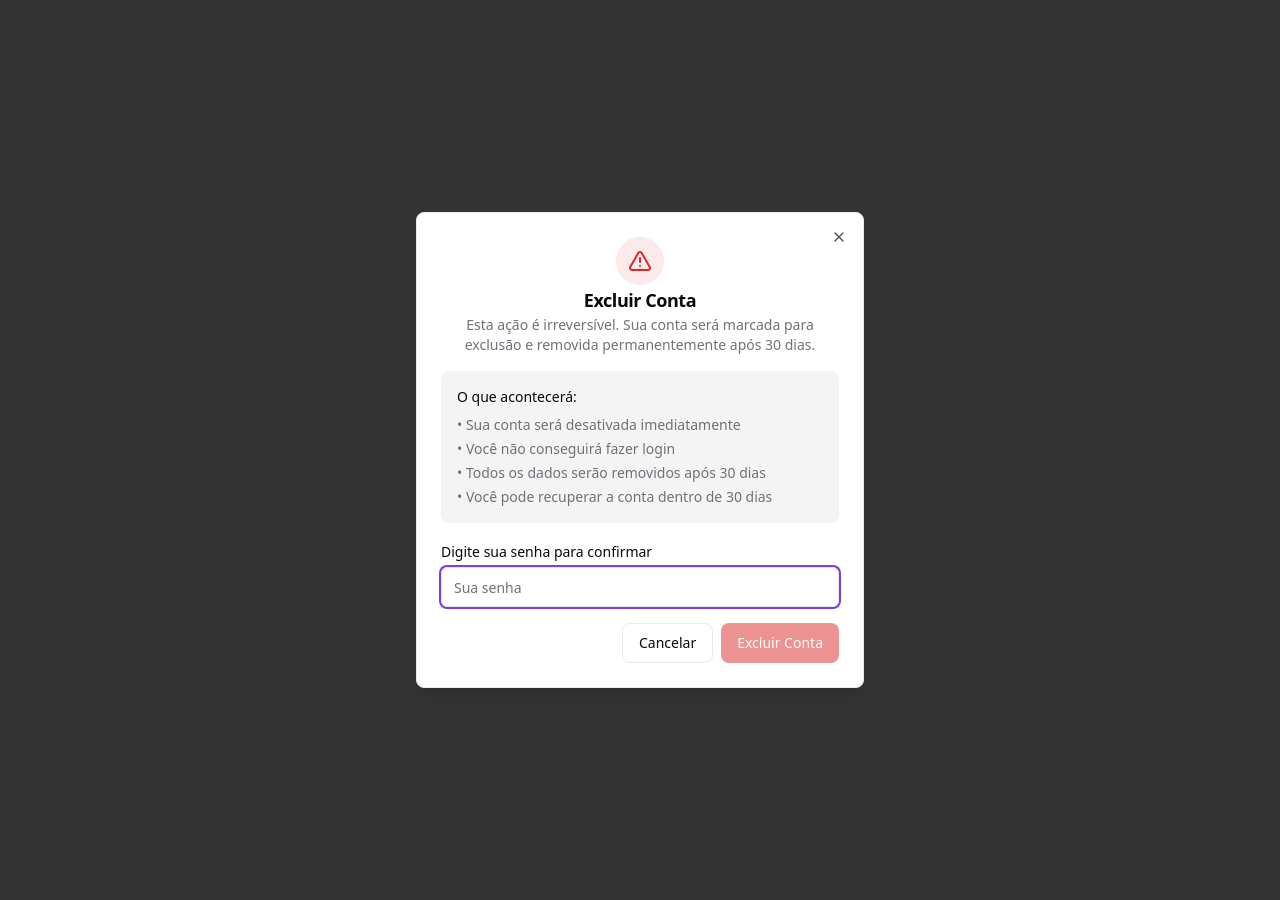
Scenario: DeleteAccountModal › should enable confirm button when password is entered
Step 1. Type "test123" into the password field with placeholder "Sua senha" → {"x": 640, "y": 587}, box [441,567,839,607]
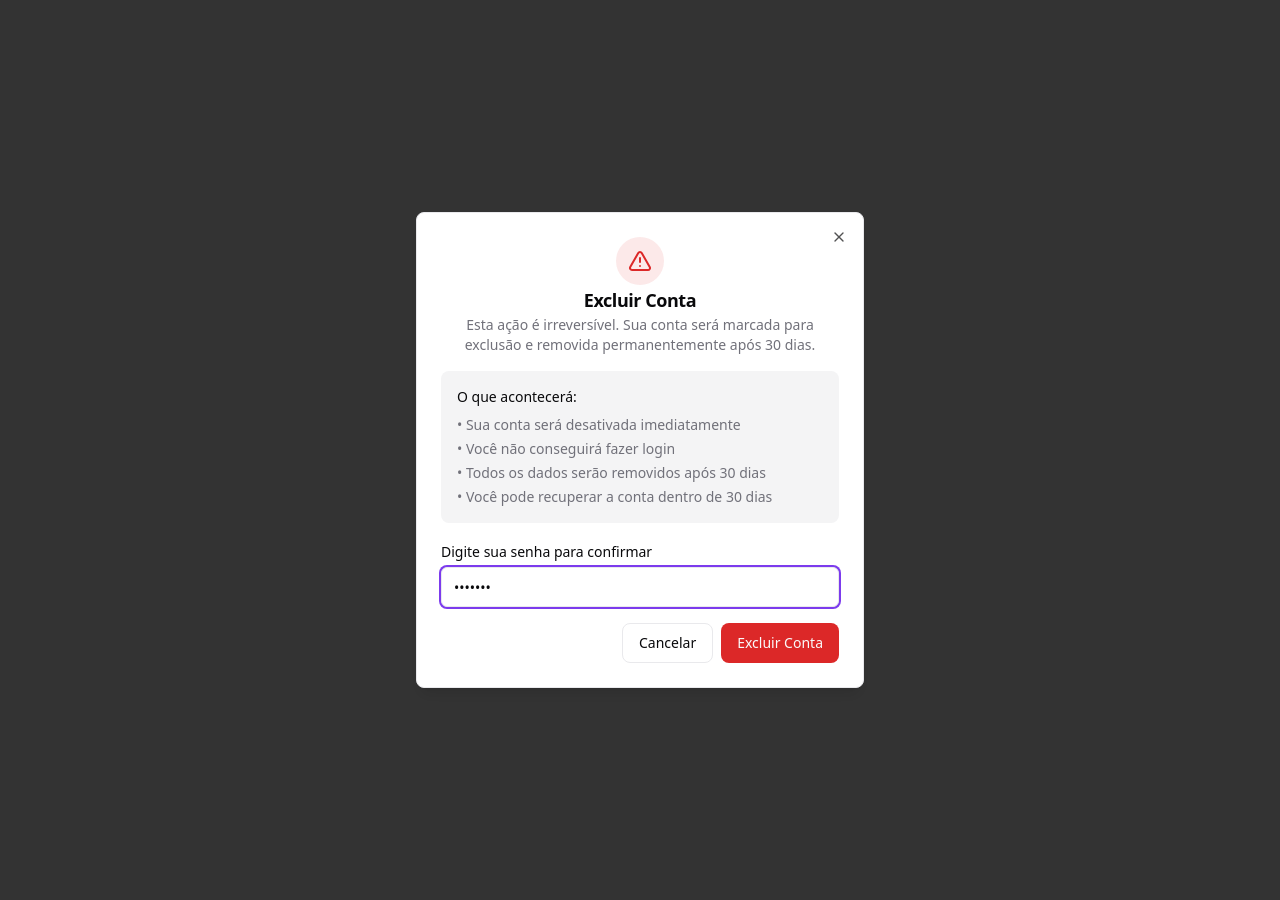
Expected: the button "Excluir Conta" is enabled, [721,623,839,663]
